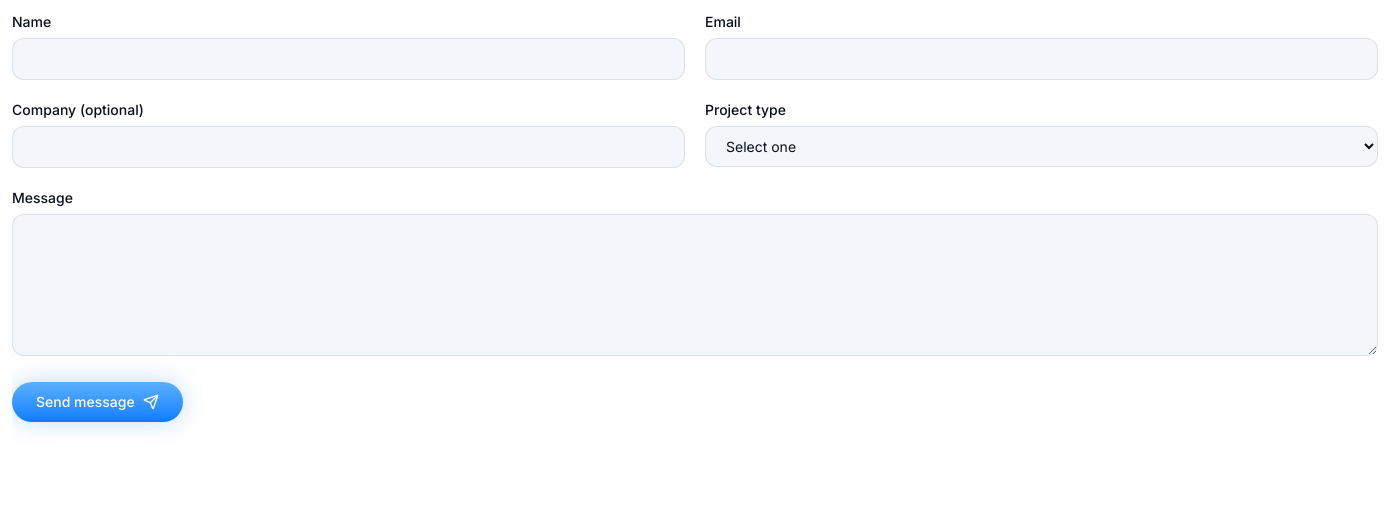
ContactForm › clears a field's error as soon as the user edits it
Click the button "Send message" at point(97, 402), box [12,382,183,422]
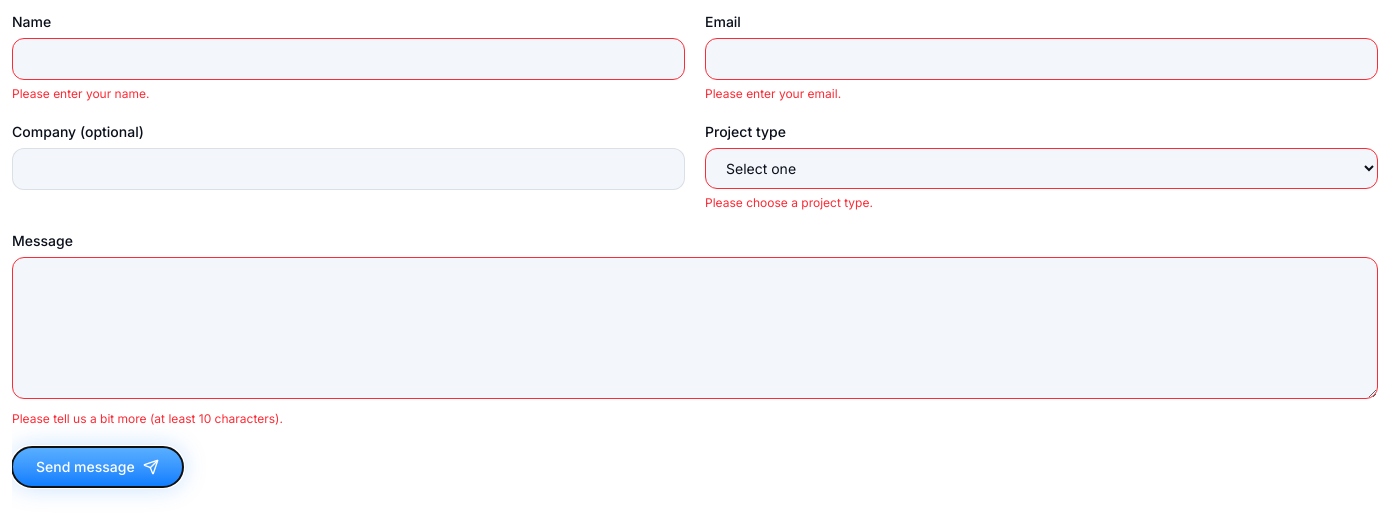
Type "A" into the field labelled "Name" at point(348, 59), box [12,38,685,80]
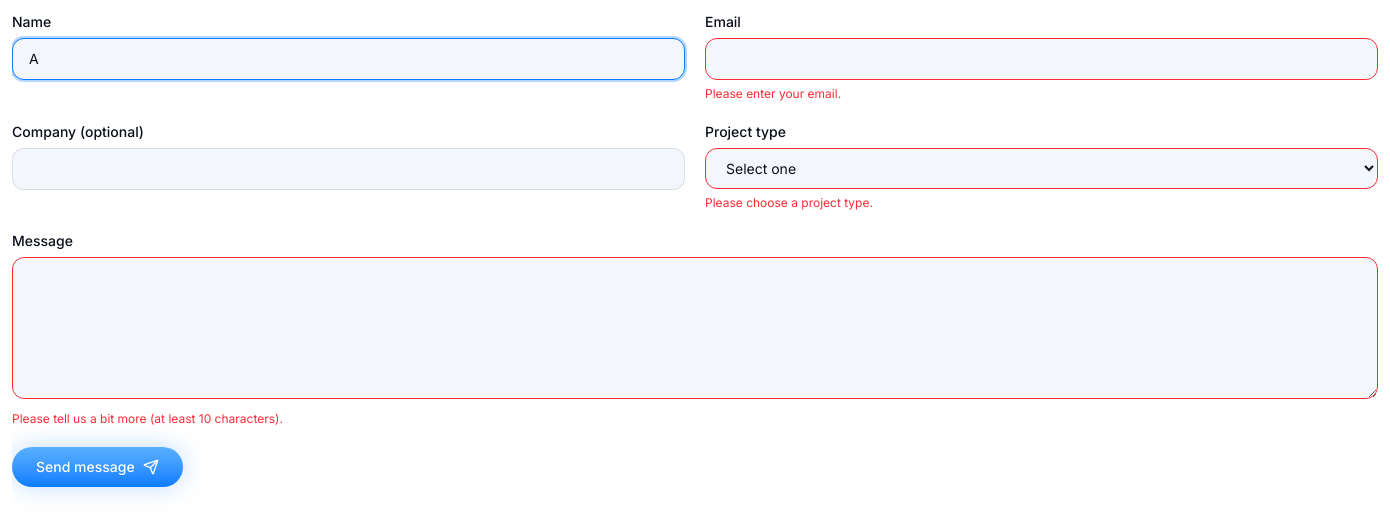
Expected: the text "Please enter your name." is gone
